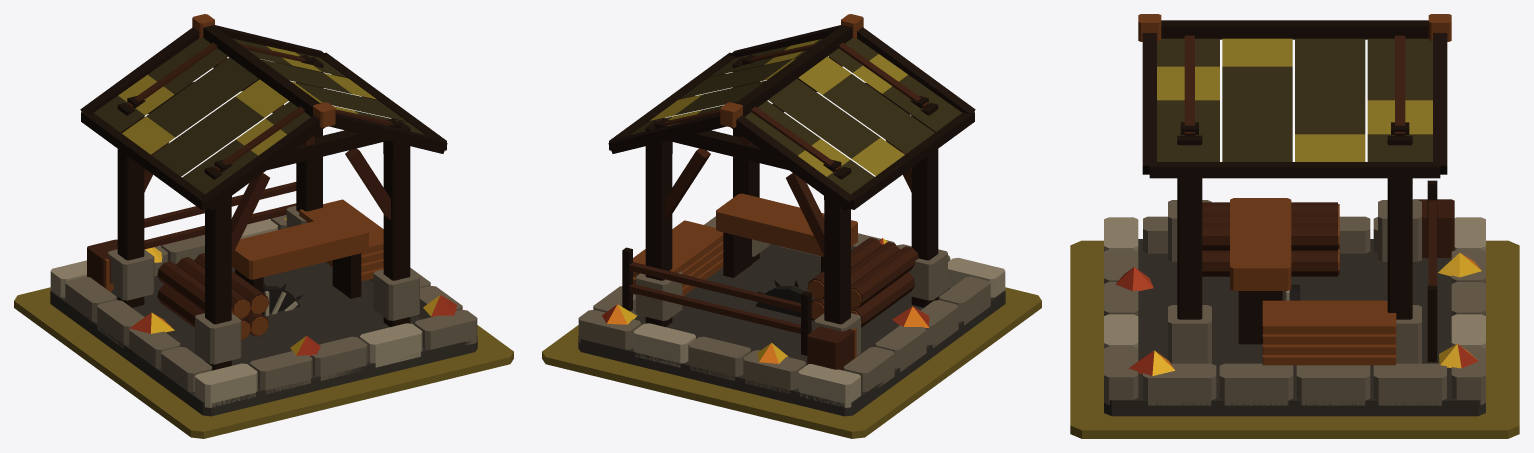
The model's file is sawmill_t3.glb.
The picture shows the model from 3 angles, left to right: view 1: azimuth 30°, elevation 25°; view 2: azimuth 150°, elevation 25°; view 3: azimuth 270°, elevation 25°; orthographic projection. The views are drawn at different scales.
Parts seen in each view (by area): view 1: MMR | sawmill | T03 Architecture.001, MMR | sawmill | Tier 03 Ground.001, MMR | sawmill | T03 Header Frame.001, MMR | sawmill | T03 Autumn Dressing.001, MMR | sawmill | T03 Saw Blade.001; view 2: MMR | sawmill | T03 Architecture.001, MMR | sawmill | Tier 03 Ground.001, MMR | sawmill | T03 Header Frame.001, MMR | sawmill | T03 Autumn Dressing.001, MMR | sawmill | T03 Saw Blade.001; view 3: MMR | sawmill | T03 Architecture.001, MMR | sawmill | Tier 03 Ground.001, MMR | sawmill | T03 Header Frame.001, MMR | sawmill | T03 Autumn Dressing.001.
Part boxes in pixels (<box>): MMR | sawmill | T03 Architecture.001: <box>50,14,477,416</box>; MMR | sawmill | Tier 03 Ground.001: <box>14,287,513,438</box>; MMR | sawmill | T03 Header Frame.001: <box>117,42,410,202</box>; MMR | sawmill | T03 Autumn Dressing.001: <box>129,218,457,355</box>; MMR | sawmill | T03 Saw Blade.001: <box>263,283,302,316</box>; MMR | sawmill | T03 Architecture.001: <box>578,14,1005,416</box>; MMR | sawmill | Tier 03 Ground.001: <box>542,287,1041,438</box>; MMR | sawmill | T03 Header Frame.001: <box>645,42,938,202</box>; MMR | sawmill | T03 Autumn Dressing.001: <box>602,238,929,363</box>; MMR | sawmill | T03 Saw Blade.001: <box>755,280,814,320</box>; MMR | sawmill | T03 Architecture.001: <box>1104,14,1485,416</box>; MMR | sawmill | Tier 03 Ground.001: <box>1070,240,1519,438</box>; MMR | sawmill | T03 Header Frame.001: <box>1177,35,1412,145</box>; MMR | sawmill | T03 Autumn Dressing.001: <box>1115,253,1481,375</box>.
Size of the model in its own units: 2.35 by 2.15 by 2.35.
1 material, 1 textured.
